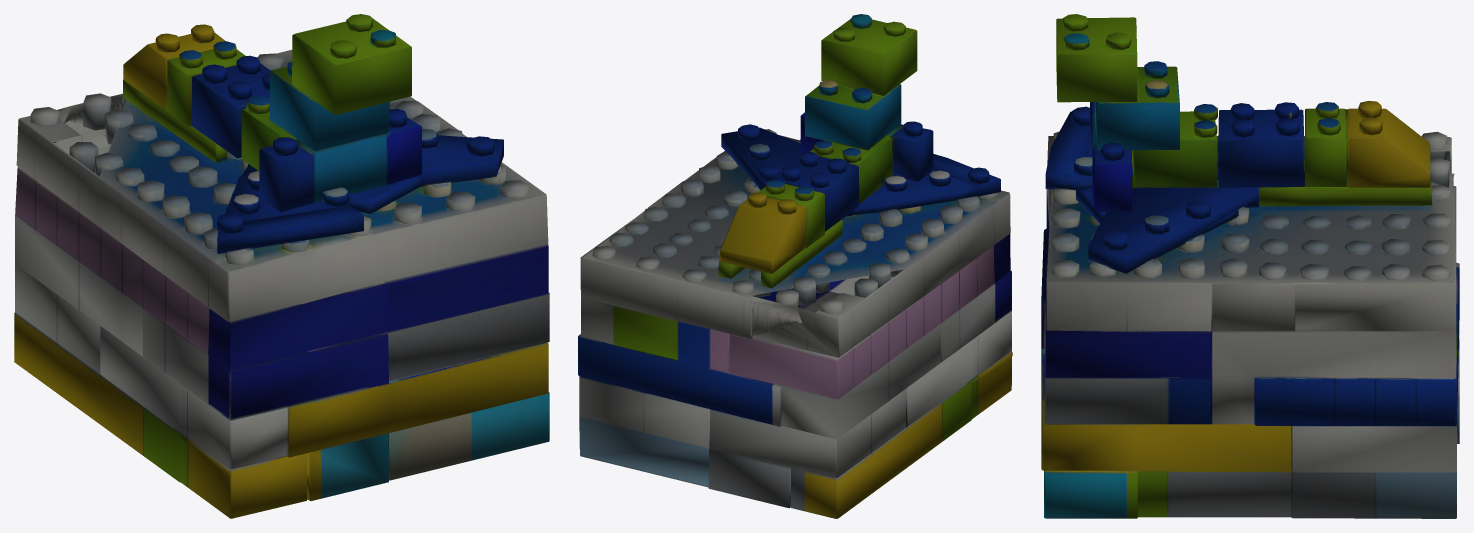
Rendered from object_43_asset_d5a0312f.glb.
3 renders of one model, left to right at view 1: azimuth 30°, elevation 25°; view 2: azimuth 150°, elevation 25°; view 3: azimuth 270°, elevation 25°, orthographic. The views are drawn at different scales.
Visible parts, largest first — view 1: tripo_node_04b2af80-693c-4a79-8b27-e87b594a4297; view 2: tripo_node_04b2af80-693c-4a79-8b27-e87b594a4297; view 3: tripo_node_04b2af80-693c-4a79-8b27-e87b594a4297.
Boxes of the visible parts, box(x1,y1,x2,y2) form: tripo_node_04b2af80-693c-4a79-8b27-e87b594a4297: box(14, 14, 549, 518); tripo_node_04b2af80-693c-4a79-8b27-e87b594a4297: box(578, 14, 1012, 518); tripo_node_04b2af80-693c-4a79-8b27-e87b594a4297: box(1041, 14, 1459, 518).
Size of the model in its own units: 0.7832 by 0.998 by 0.9199.
Materials: 1 (1 with a texture image).
